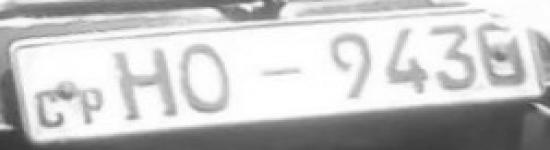0: (476, 16, 527, 93)
3: (429, 19, 478, 94)
4: (378, 23, 430, 98)
9: (317, 28, 377, 102)
C: (31, 87, 71, 132)
H: (109, 44, 181, 125)
O: (178, 43, 236, 119), (258, 61, 307, 82)
P: (75, 84, 111, 129)
